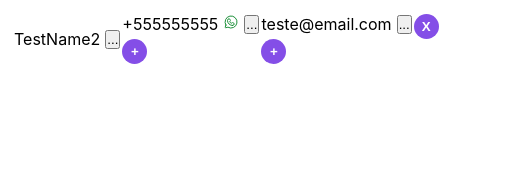
Test: TableRow component › phone add button should render expected elements
The image size is (529, 172).
What coordinates should you click on to do the following:
click the button "+" below "+555555555"
I would click on:
 (135, 52)
Its box is [122,39,147,64].
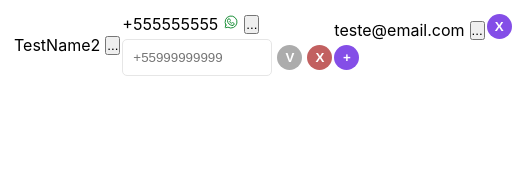
Now the field with placeholder "+55999999999" is shown, box [122,39,272,76]
